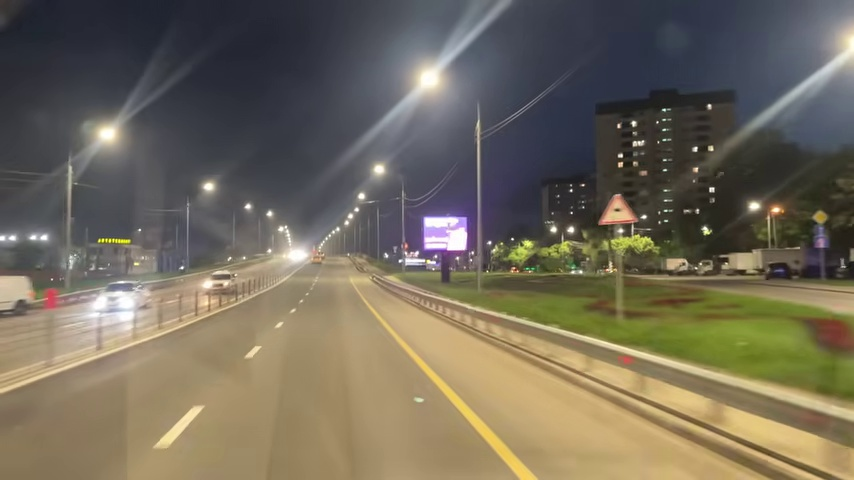acesa: (415, 66, 442, 93), (836, 26, 853, 67), (95, 123, 120, 146), (200, 179, 218, 197), (371, 162, 388, 179), (845, 31, 853, 64), (747, 199, 762, 215), (242, 200, 256, 215), (355, 189, 368, 204)
